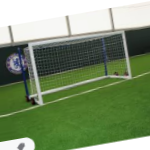goals: (24, 29, 134, 104)
